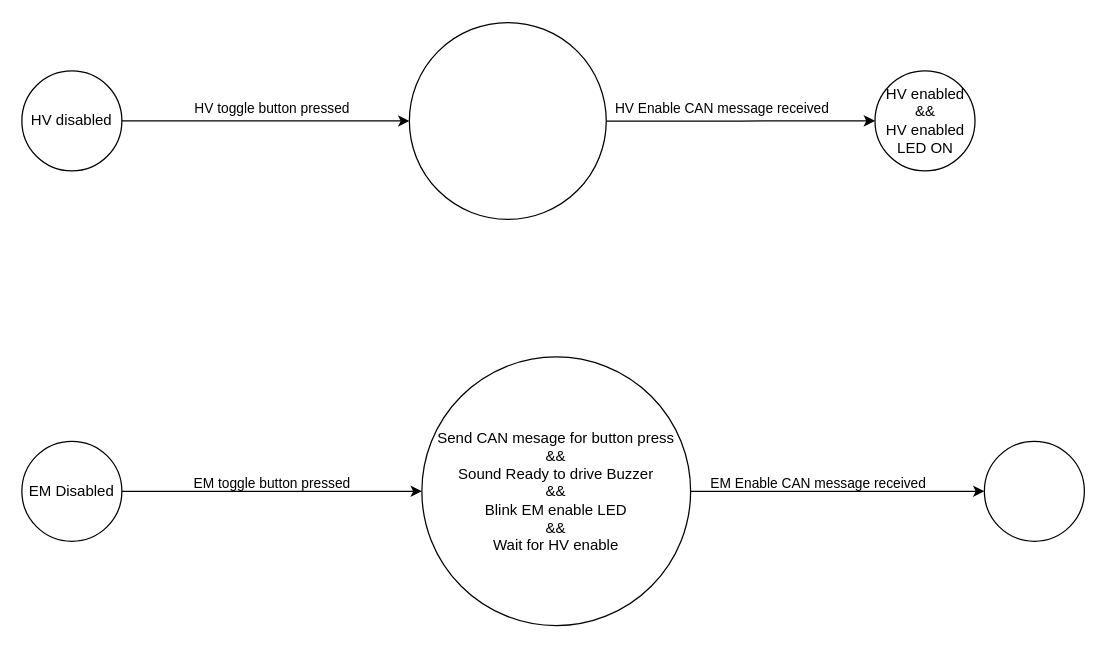
This 1106x648 diagram has some shape labels left out. The centre of each missing label's shape, as x and y in pixels:
EM enabled && EM enabled LED ON: the point at 1033,490
Send CAN message for button press && Blink HV Enable LED && Wait for HV enable: the point at 507,120
